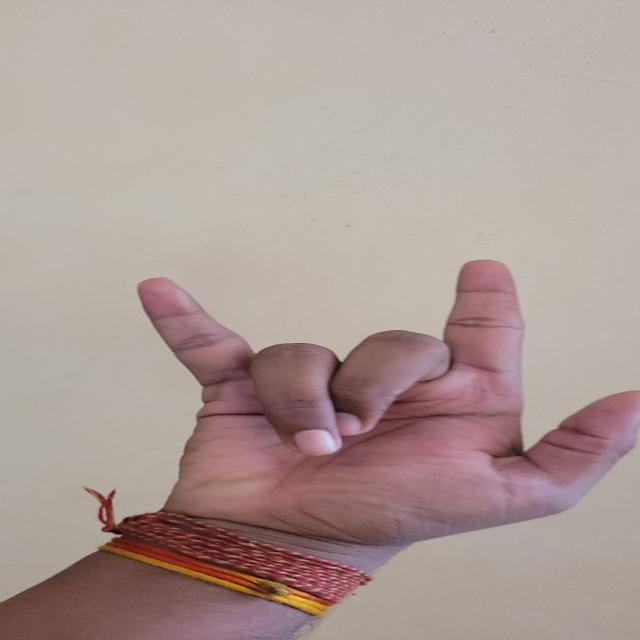i like you: (61, 209, 640, 551)
